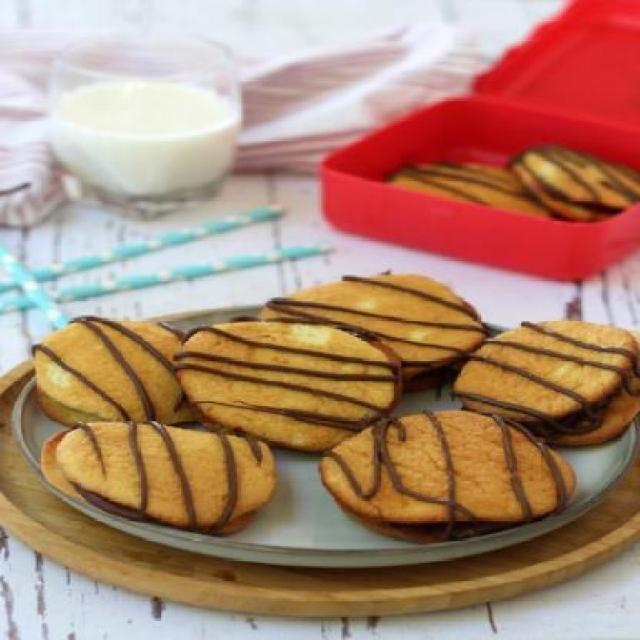Merendine packaged: (177, 314, 408, 448), (324, 412, 578, 530), (49, 418, 293, 530), (255, 272, 479, 370), (458, 322, 640, 434), (32, 315, 204, 423)
